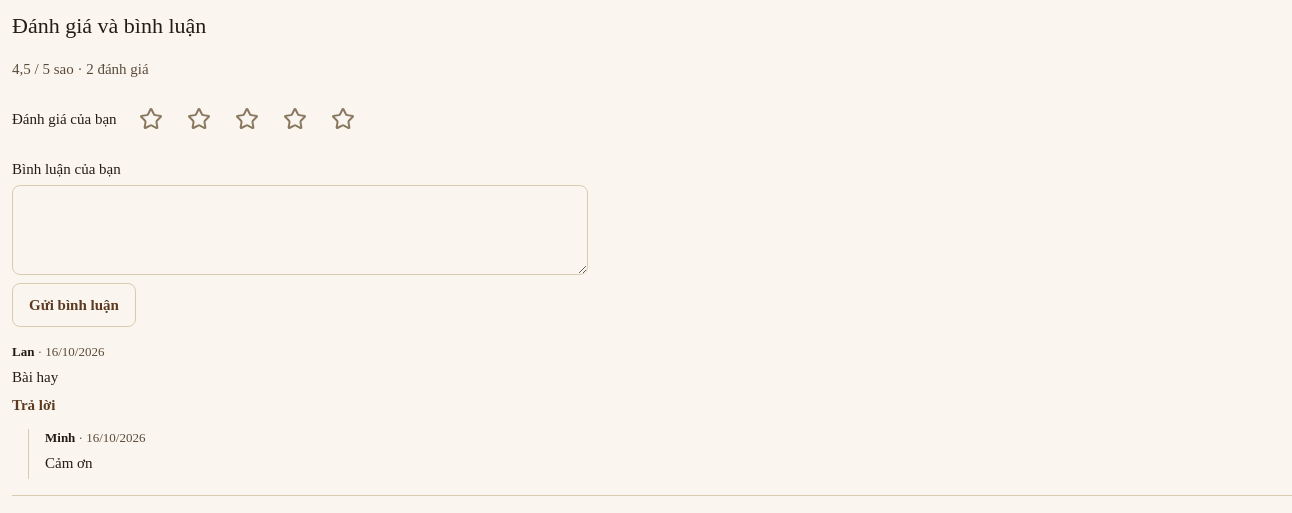
LessonCommunity › chấm sao cập nhật trung bình; gỡ đánh giá
Click the button named "5 sao".
click(342, 119)  # box [320,97,364,141]
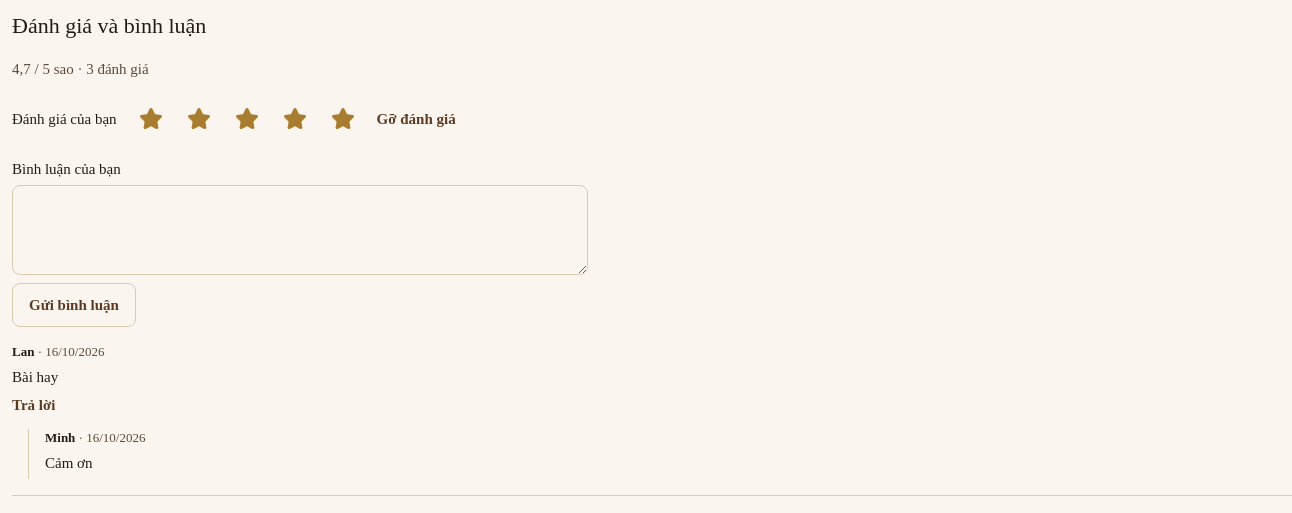
Result: the text "4,7 / 5 sao · 3 đánh giá" is shown at [12,61,149,77]
Click the button "Gỡ đánh giá".
click(416, 119)  # box [376,107,456,131]
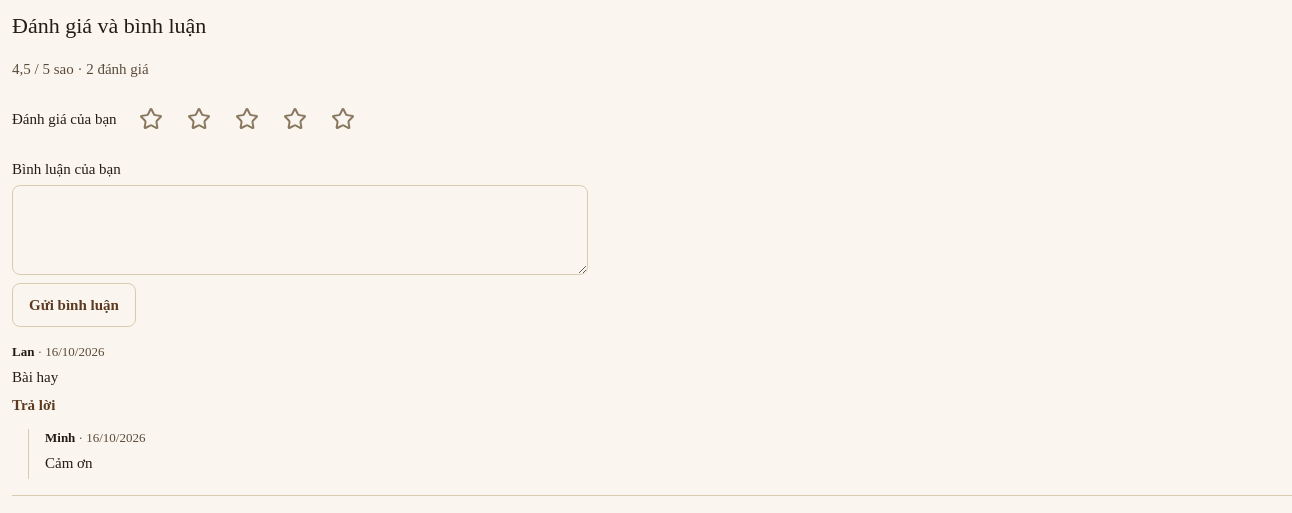
Result: the text "4,5 / 5 sao · 2 đánh giá" is shown at [12,61,149,77]
